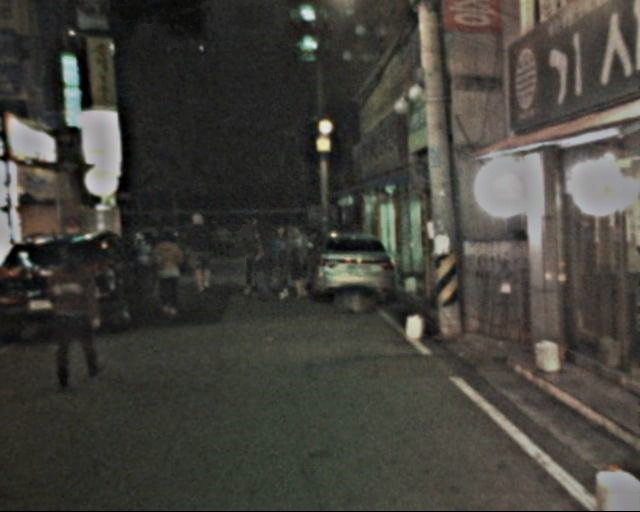person: (47, 235, 107, 382), (145, 219, 185, 321), (233, 214, 270, 290), (182, 212, 218, 290), (254, 219, 285, 302), (284, 224, 316, 302)
